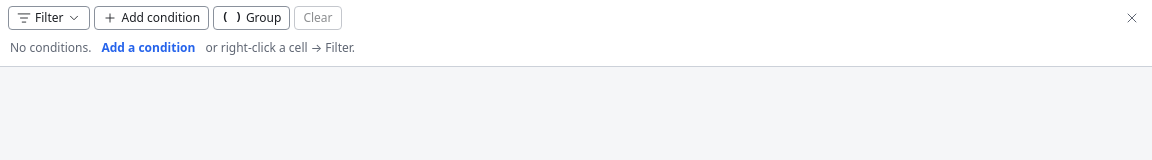
Test: FilterBar drafts and the focused column (design-16) › Add condition starts on the focused grid column and focuses the value input
Click the button "Add condition".
click(152, 18)  # box [94,6,209,30]
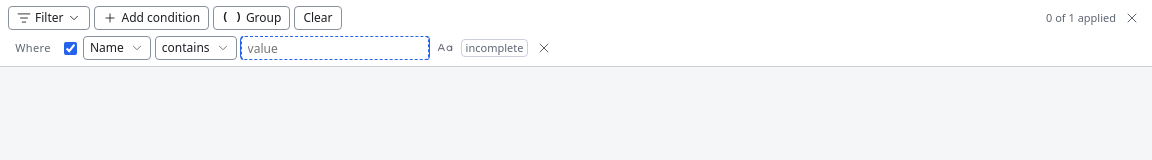
expect the text "Name" is shown: met, box [90,40,124,56]
